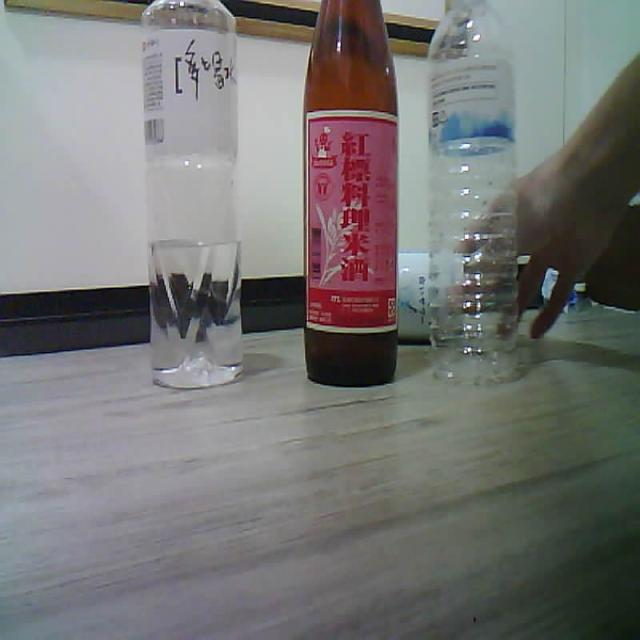bottle: (142, 0, 242, 387), (304, 0, 398, 385), (426, 0, 517, 381)
